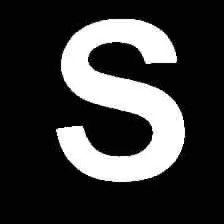LTR_S: (52, 10, 195, 188)
